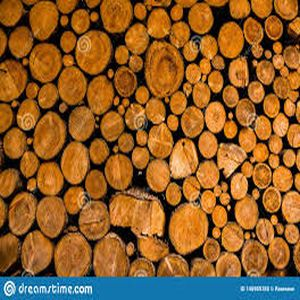log: (108, 191, 167, 240), (144, 41, 186, 101), (165, 201, 208, 254), (53, 231, 93, 278), (32, 111, 67, 162), (74, 31, 114, 75), (91, 234, 128, 277), (26, 2, 61, 47), (19, 229, 52, 276), (166, 137, 201, 180), (34, 195, 67, 240), (60, 140, 91, 187), (103, 152, 137, 194), (29, 44, 63, 84), (6, 192, 37, 235), (78, 201, 111, 240), (56, 66, 87, 107), (1, 59, 28, 102), (99, 1, 133, 35), (86, 75, 114, 116), (216, 142, 246, 180), (67, 106, 96, 143), (147, 122, 174, 161), (241, 240, 269, 277), (234, 195, 262, 232), (217, 21, 245, 58), (135, 234, 170, 263), (179, 105, 206, 142), (187, 1, 216, 35), (124, 22, 153, 56), (37, 162, 66, 195), (146, 7, 174, 41), (144, 159, 171, 194), (2, 127, 28, 163), (99, 110, 124, 146), (15, 98, 40, 133), (267, 236, 290, 273), (114, 66, 139, 98), (8, 27, 33, 59), (214, 251, 243, 278), (61, 185, 88, 214), (204, 101, 227, 135), (156, 254, 191, 276), (85, 169, 109, 201), (1, 233, 19, 275), (220, 221, 245, 251), (241, 17, 266, 47), (124, 102, 147, 134), (228, 57, 251, 88), (87, 136, 109, 168), (196, 161, 220, 190), (37, 82, 60, 112), (262, 14, 286, 42), (280, 190, 300, 223), (145, 97, 167, 127), (168, 20, 190, 50), (229, 172, 250, 203), (1, 167, 21, 199), (196, 131, 218, 160), (182, 174, 202, 205), (130, 144, 152, 172), (236, 126, 258, 154), (235, 98, 257, 126), (255, 59, 277, 87), (19, 150, 39, 180), (273, 165, 294, 193), (252, 114, 273, 142), (166, 90, 188, 116), (252, 163, 273, 190), (262, 185, 282, 213), (191, 81, 211, 109), (219, 83, 239, 111), (1, 1, 24, 25), (128, 258, 157, 277), (71, 9, 92, 35), (256, 217, 275, 245), (201, 238, 222, 263), (199, 34, 219, 60), (198, 190, 218, 215), (273, 1, 300, 19), (271, 113, 290, 138), (273, 75, 292, 100), (190, 259, 216, 277), (228, 1, 251, 21), (246, 81, 266, 103), (221, 119, 240, 142), (165, 182, 182, 207), (266, 135, 285, 157), (207, 70, 223, 96), (282, 44, 300, 67), (60, 30, 78, 53), (182, 39, 199, 63), (211, 205, 229, 227), (117, 132, 135, 154), (251, 1, 274, 18), (251, 143, 269, 164), (264, 94, 279, 119), (286, 122, 300, 148), (134, 85, 152, 105), (127, 54, 144, 75), (169, 4, 187, 23), (185, 63, 202, 83), (114, 44, 130, 65), (284, 223, 299, 245), (134, 127, 149, 149), (133, 2, 149, 22), (238, 160, 254, 179), (282, 149, 297, 169), (166, 114, 181, 134), (284, 97, 297, 120), (249, 42, 266, 59), (211, 55, 228, 72), (24, 81, 39, 99), (286, 72, 300, 91), (288, 16, 300, 38), (267, 152, 281, 170), (270, 40, 285, 55), (272, 53, 286, 69), (199, 58, 213, 74), (262, 47, 275, 64), (62, 53, 77, 67), (219, 192, 232, 207), (25, 177, 37, 193), (182, 80, 194, 96), (59, 14, 69, 31), (279, 64, 290, 79), (199, 73, 212, 85), (251, 188, 262, 202), (58, 101, 69, 115), (89, 10, 100, 24), (269, 213, 279, 228), (125, 242, 135, 257), (211, 227, 223, 239), (276, 222, 286, 236), (242, 229, 254, 240), (220, 180, 230, 193), (105, 68, 115, 81), (214, 183, 222, 198), (24, 136, 33, 149), (121, 97, 131, 108), (112, 94, 121, 106), (10, 98, 19, 108), (116, 105, 126, 114), (228, 111, 235, 121)
